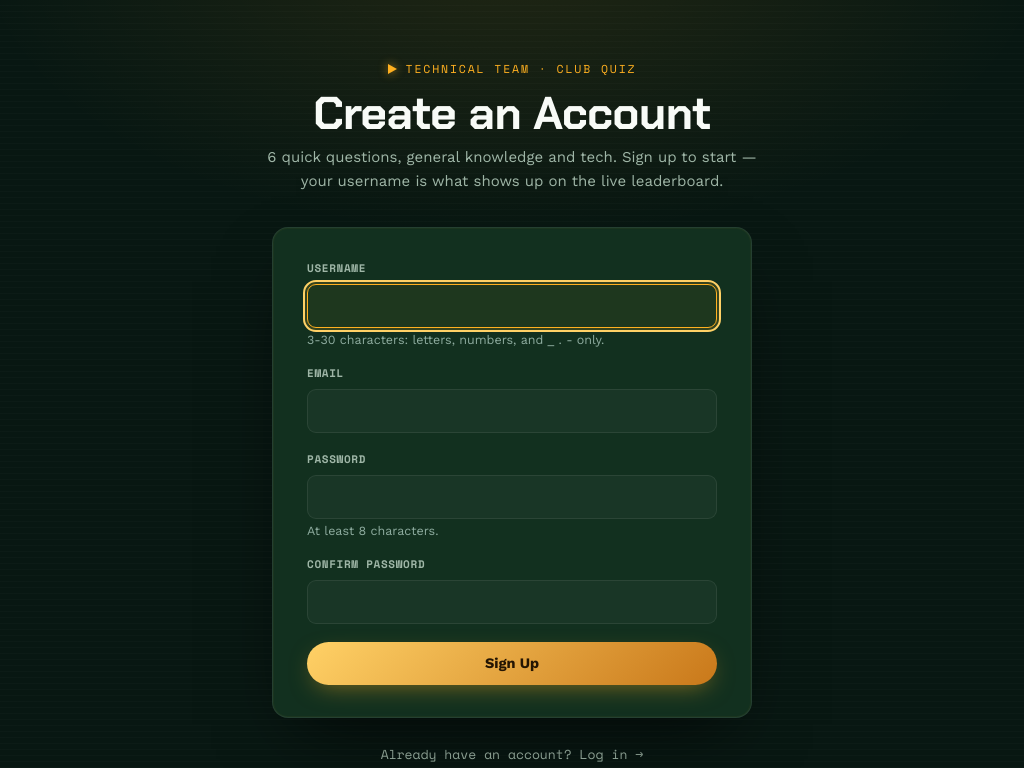
Scenario: Signup › surfaces a duplicate-username error from the server
Type "ada_lovelace" into the field labelled "Username" at (512, 306), box [307,284,717,328]
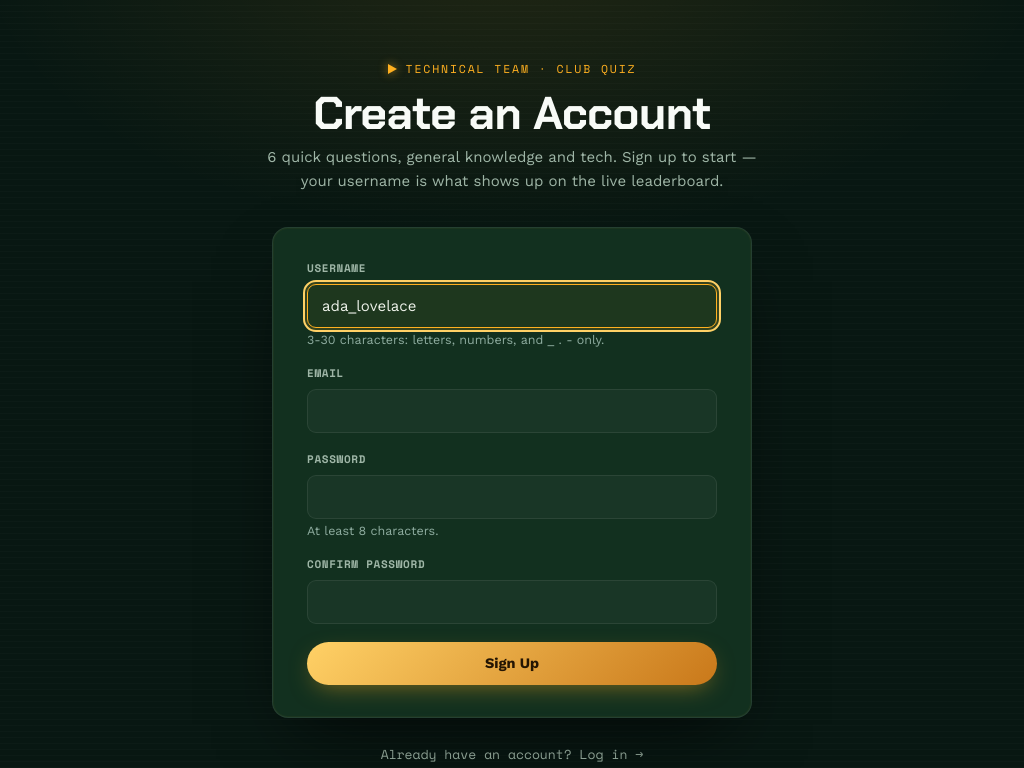
Type "ada@example.com" into the field labelled "Email" at (512, 411), box [307,389,717,433]
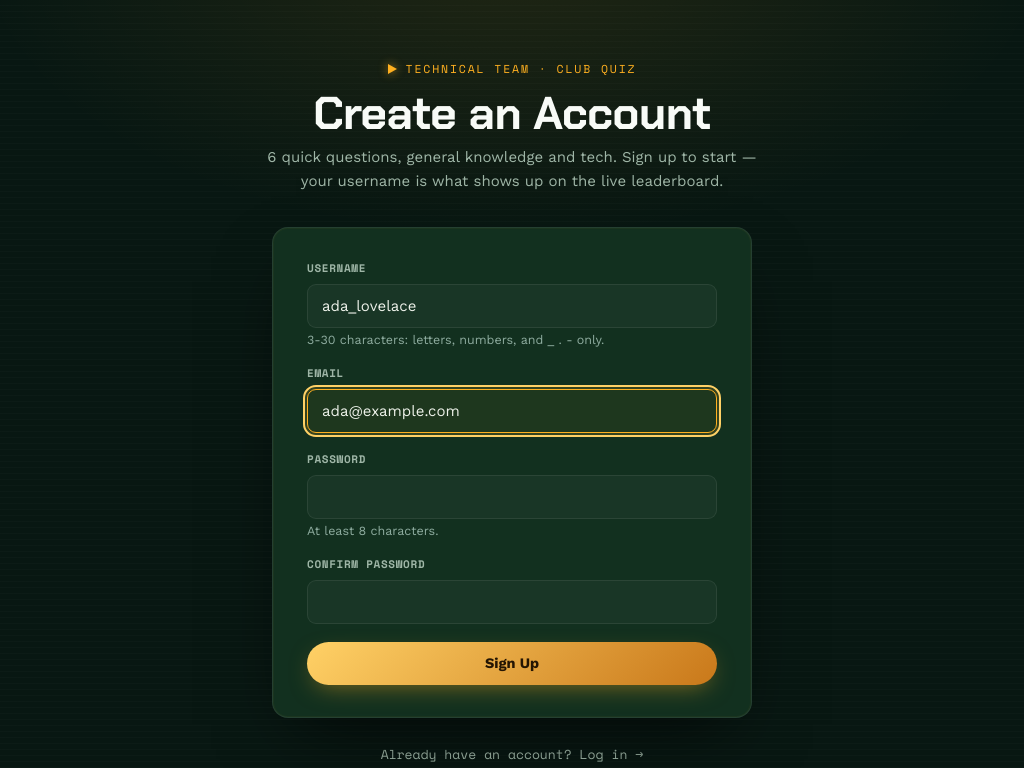
Type "correcthorse" into the password field labelled "Password" at (512, 497), box [307,475,717,519]
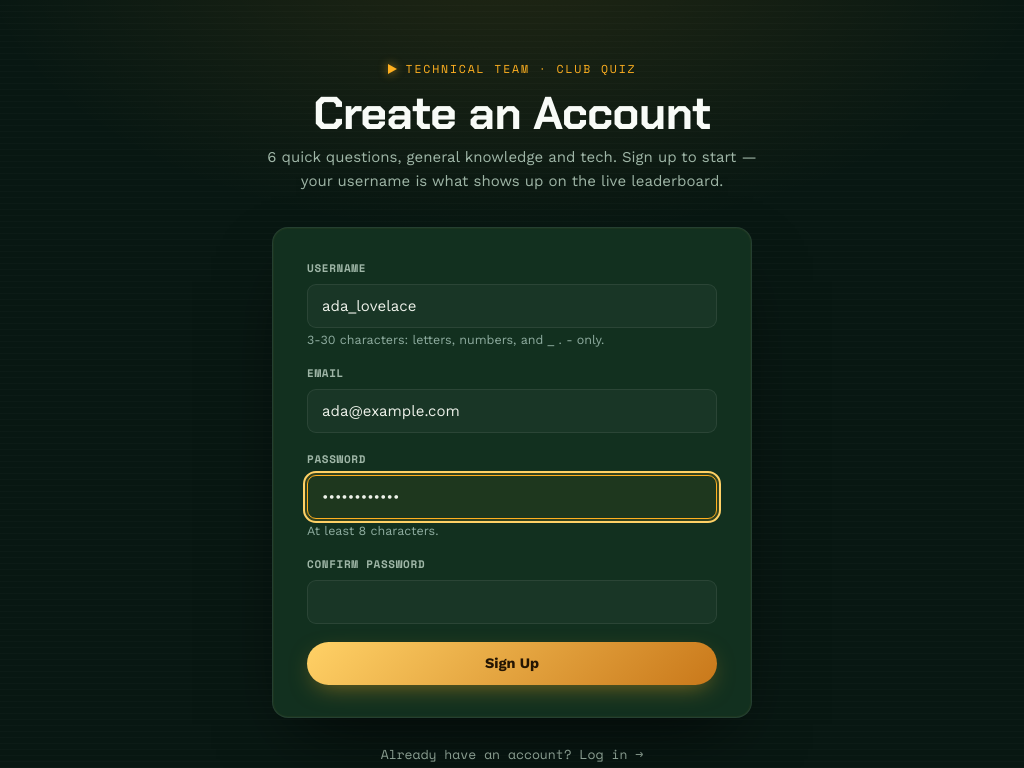
Type "correcthorse" into the password field labelled "Confirm Password" at (512, 602), box [307,580,717,624]
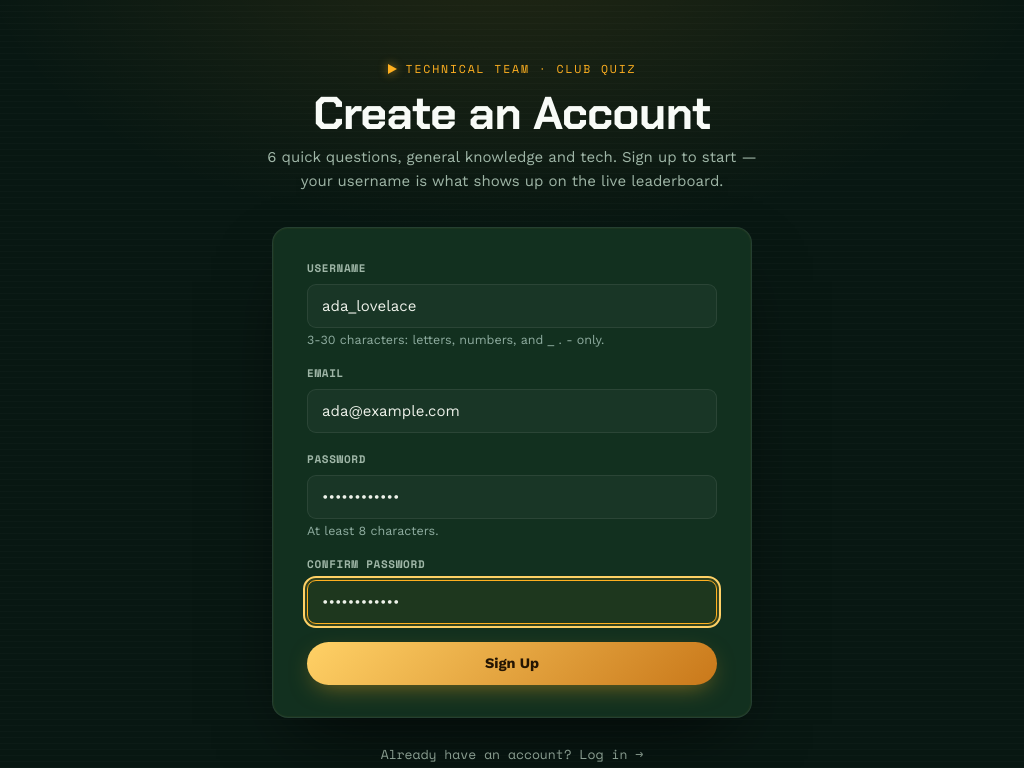
Click the button "Sign Up" at (512, 664), box [307,642,717,685]
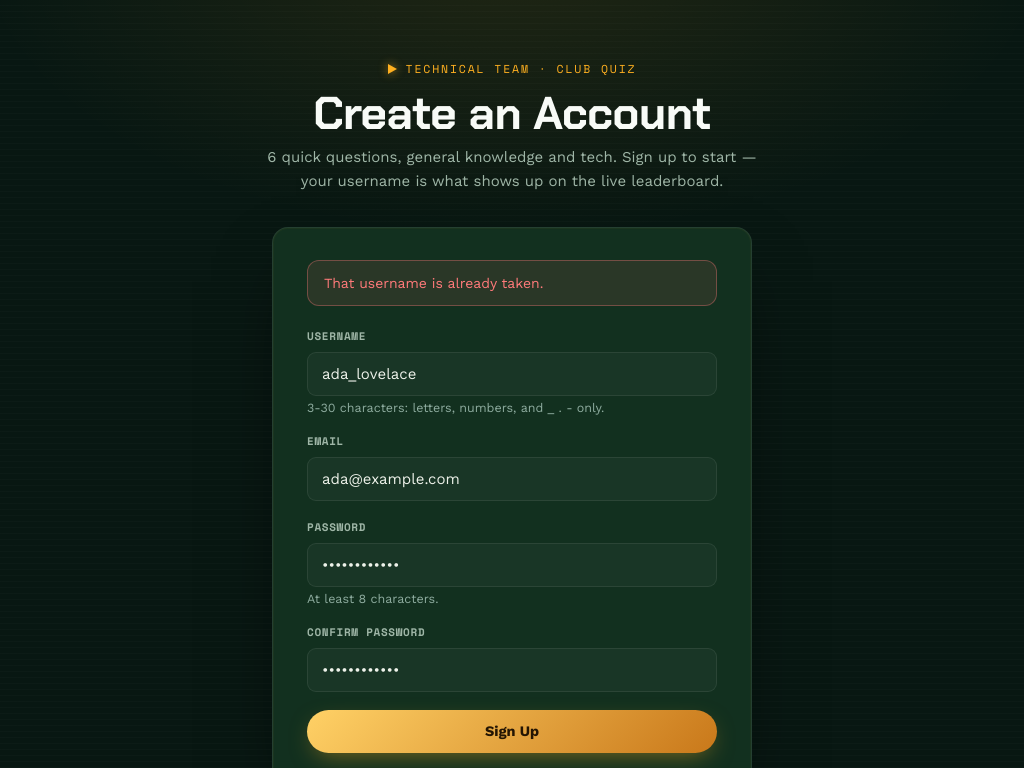
Expected: the message shows "already taken", [324,275,543,291]
